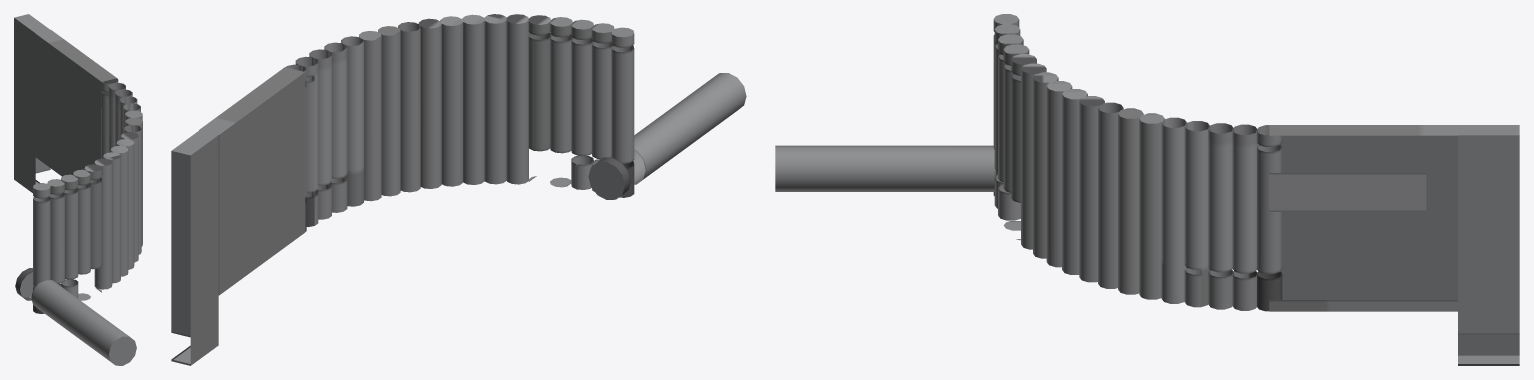
The picture shows the model from 3 angles, left to right: view 1: azimuth 30°, elevation 25°; view 2: azimuth 150°, elevation 25°; view 3: azimuth 270°, elevation 25°; orthographic projection. The views are drawn at different scales.
Size of the model in its own units: 0.8386 by 0.7137 by 2.09.
